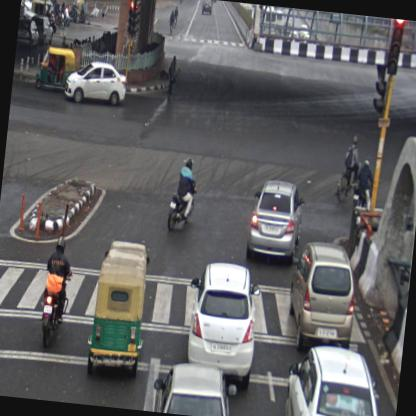car: (179, 258, 263, 394), (282, 340, 399, 415), (284, 239, 360, 354), (244, 180, 306, 265), (150, 360, 242, 415), (62, 58, 128, 110), (15, 19, 40, 50), (30, 16, 52, 45)
motorcycle: (37, 234, 73, 346), (167, 154, 199, 233), (334, 131, 362, 204), (352, 154, 374, 216)
